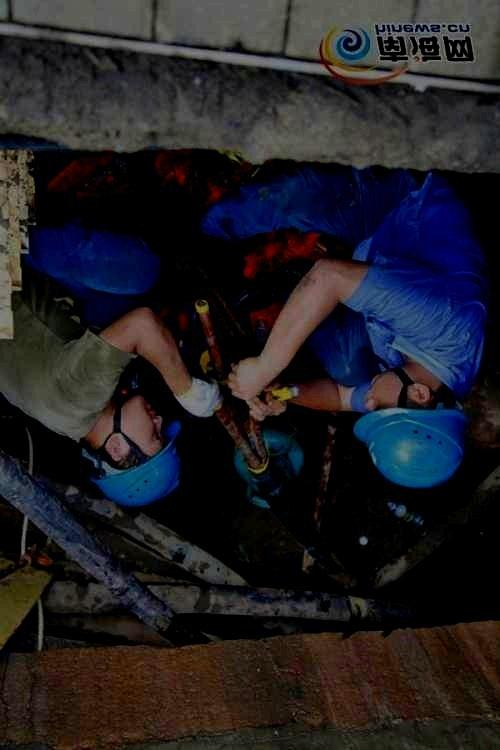helmet: (353, 368, 466, 489), (90, 395, 181, 508)
